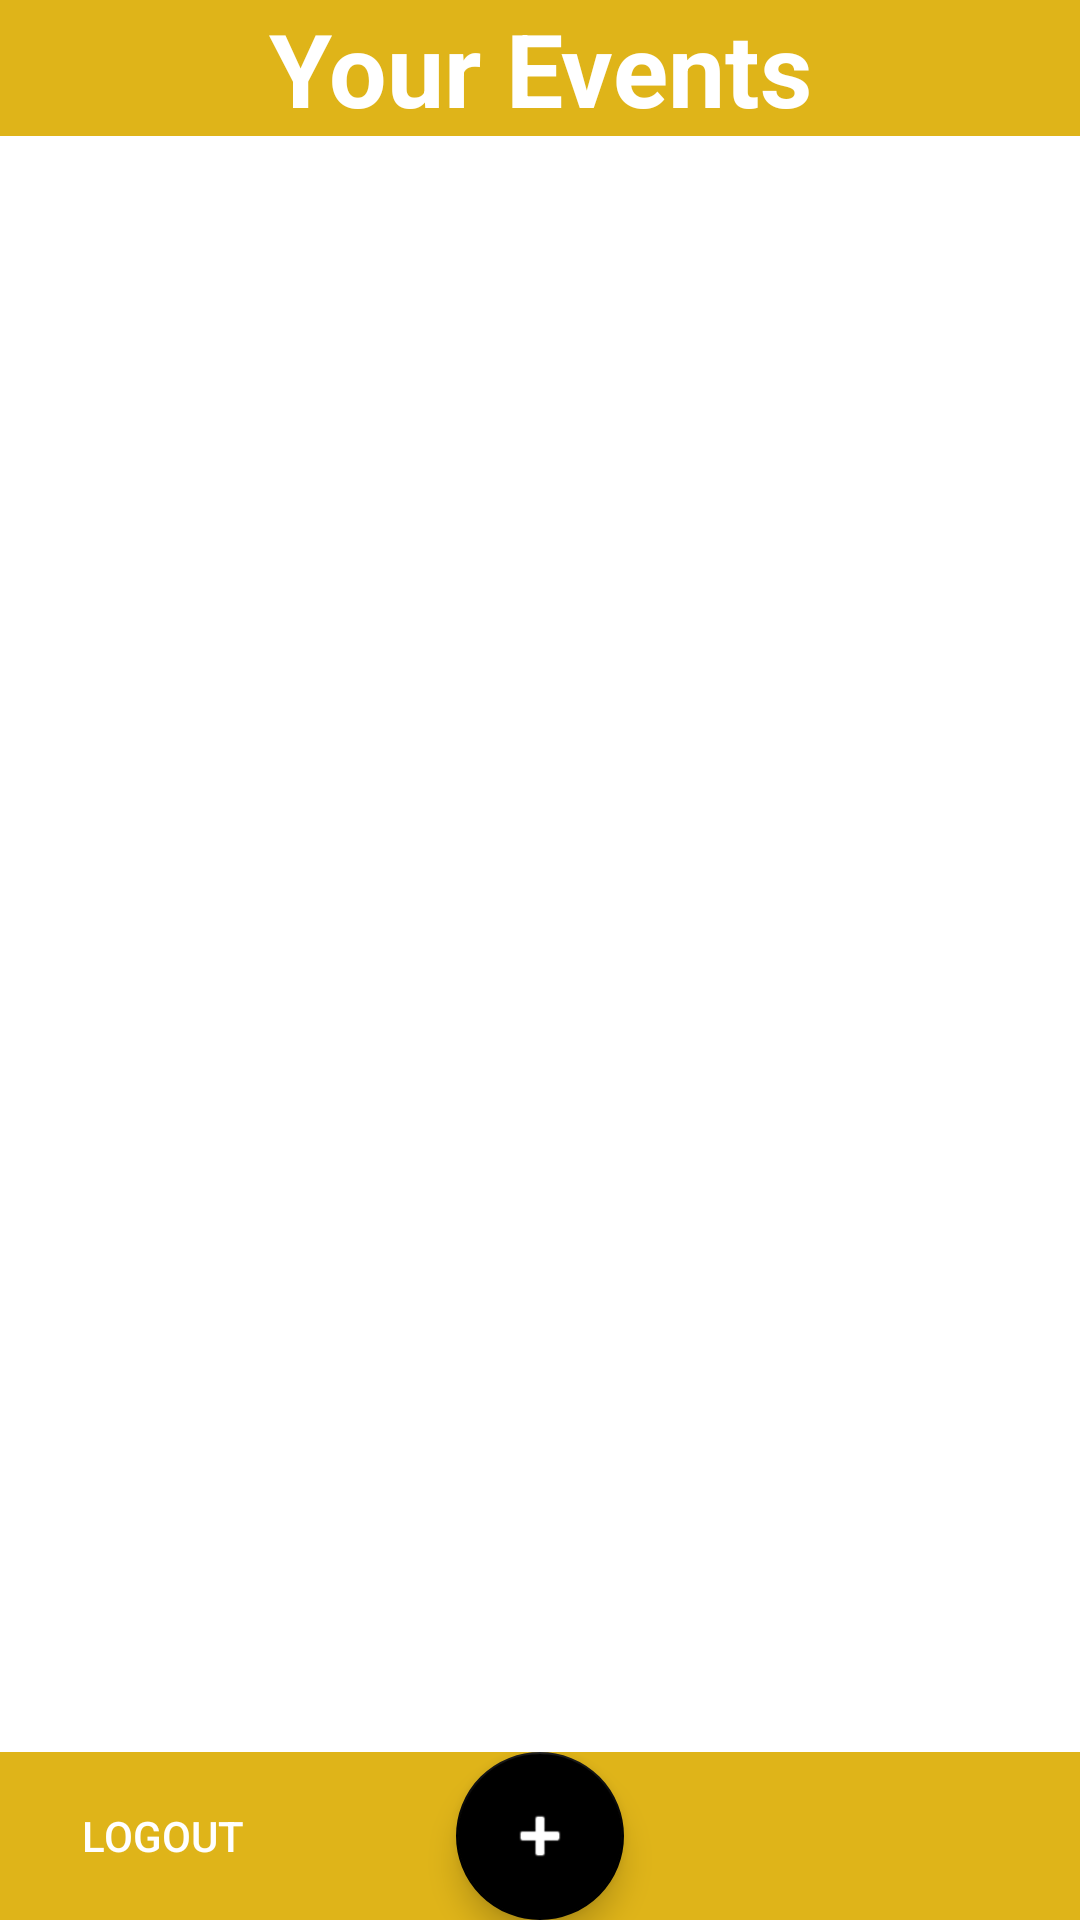

Icons on this 1080 x 1920 Android screen, each with the point to tap as (x,y):
add: (540,1836)
